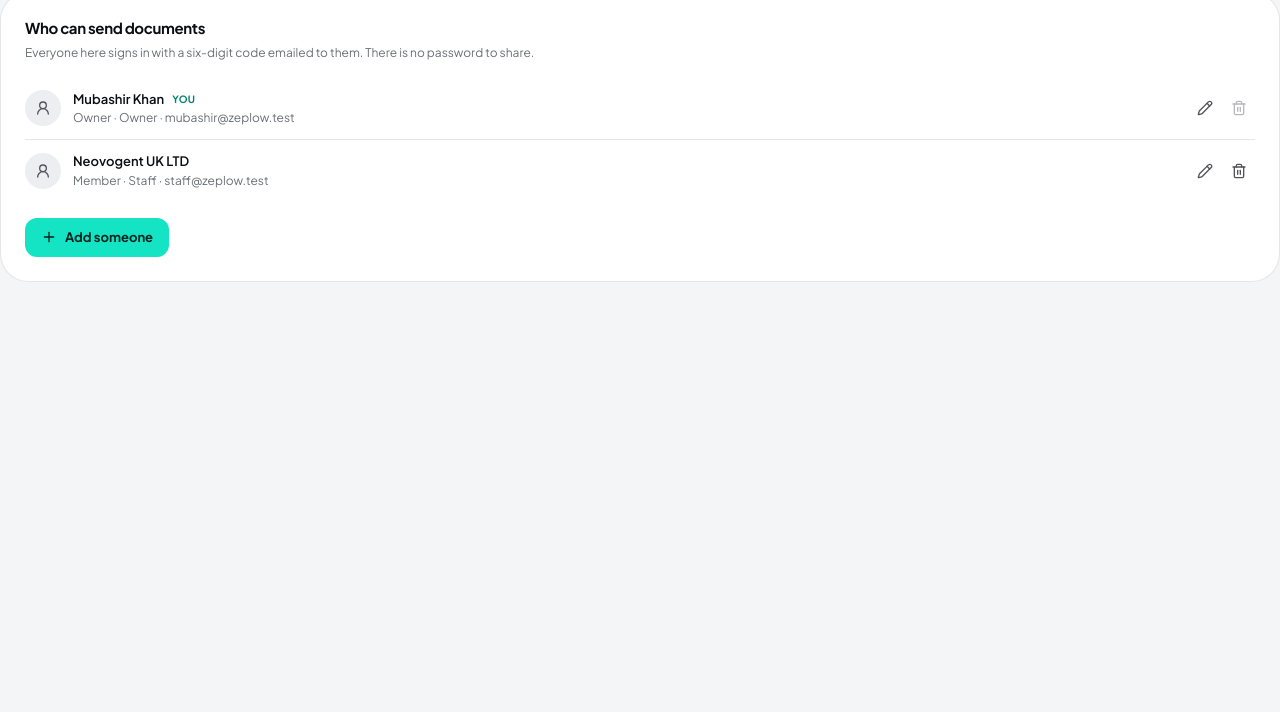
⚠ item 41 — the access level describes itself, and the description follows the choice
This screenshot has width=1280, height=712.
Expected: the text "Neovogent UK LTD" is shown, [73,152,189,172]
Click the button named "change what they can do" in the row of "Neovogent UK LTD".
click(1205, 171)  # box [1189,155,1221,187]
(page scrolled)
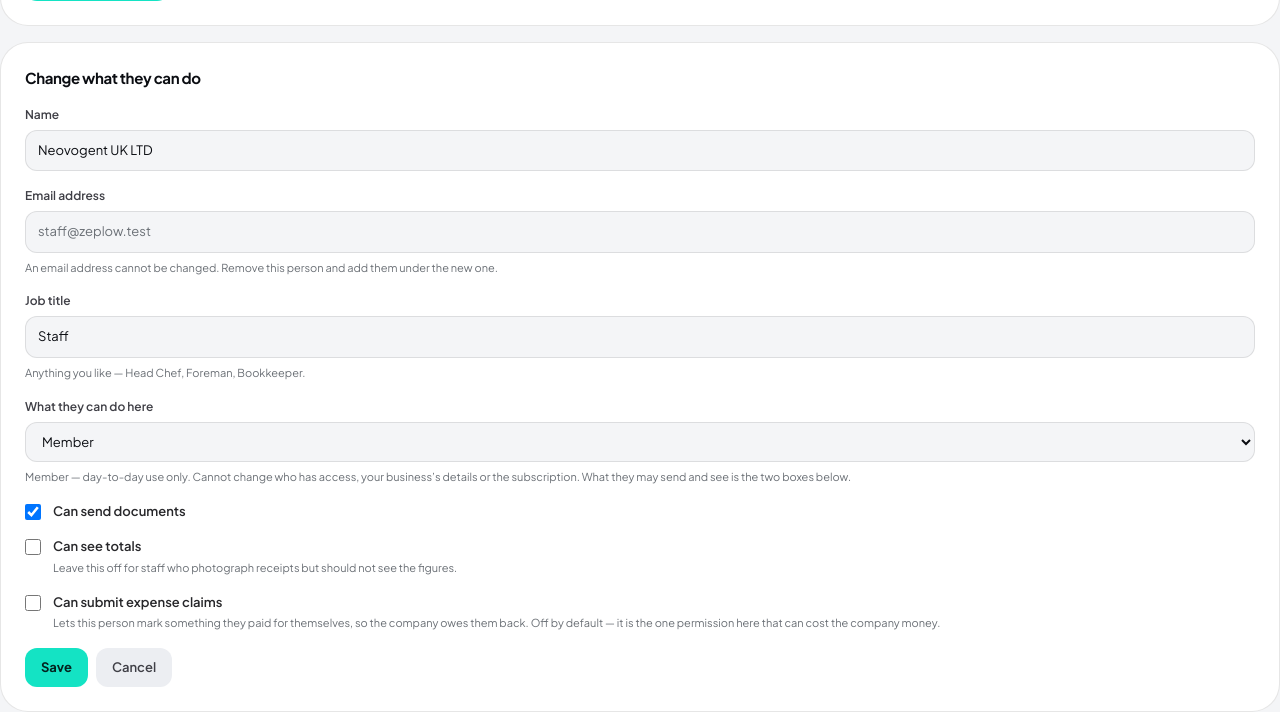
Result: the text "Member — day-to-day use only" is shown at [25,470,851,483]
Select "User administrator" in the dropdown labelled "What they can do here" at (640, 442), box [25,422,1255,462]
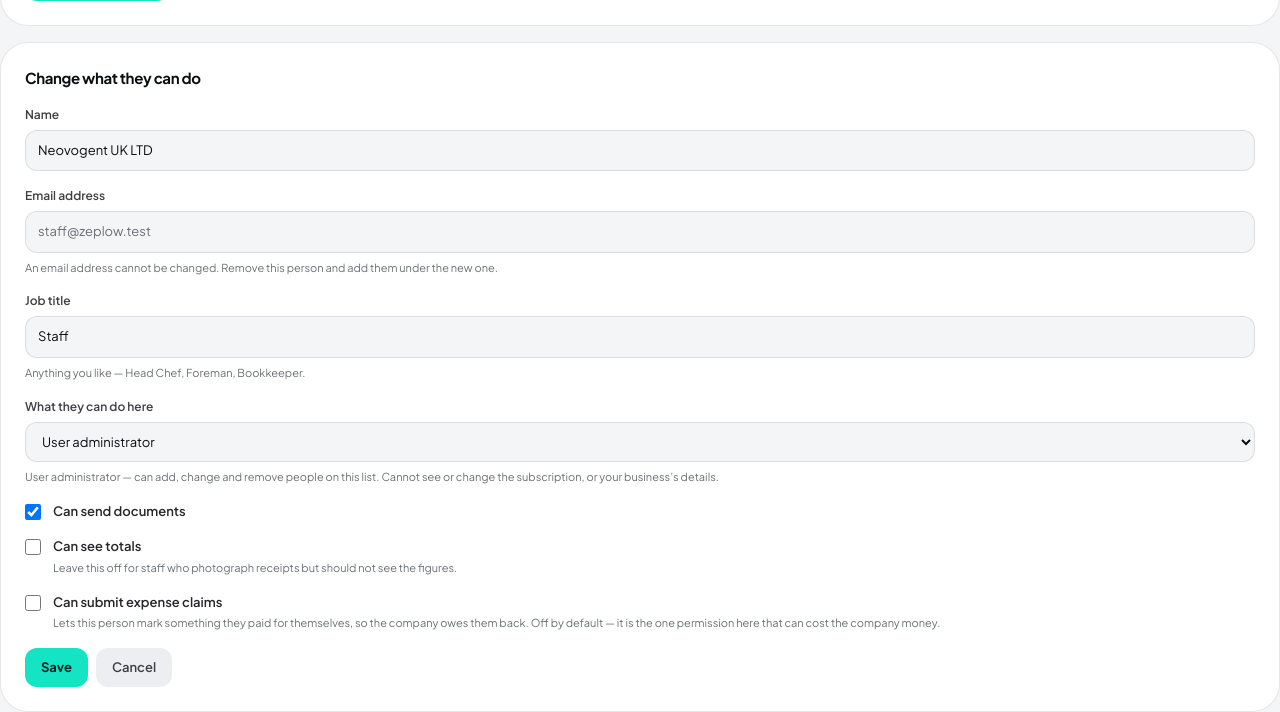
Result: the text "User administrator — can add, change and remove people" is shown at [25,470,719,483]
Result: the text "Member — day-to-day use only" is gone
